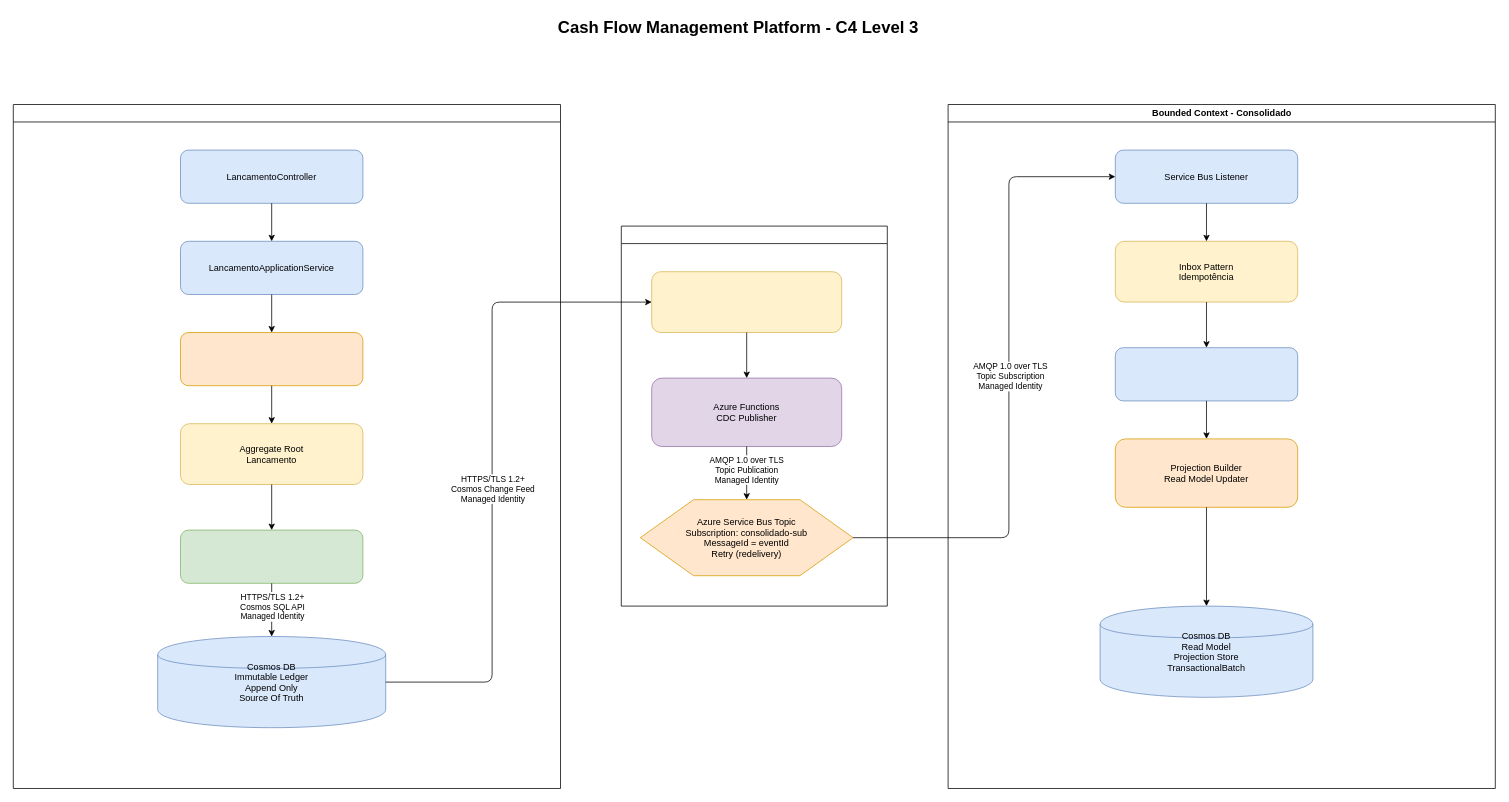
Image size: 1509x802. Some labels were removed from this diagram. The box of each missing label's shape, as (x1, y1, x2, y2) in pixels:
Bounded Context - Lançamentos: (13, 104, 560, 788)
ConsolidadoApplicationService: (1115, 347, 1298, 401)
Cosmos Change Feed Processor: (651, 271, 842, 332)
Integration Infrastructure - CDC Publisher: (621, 225, 887, 606)
LancamentoDomainService: (180, 332, 363, 386)
LancamentoRepository: (180, 529, 363, 583)
